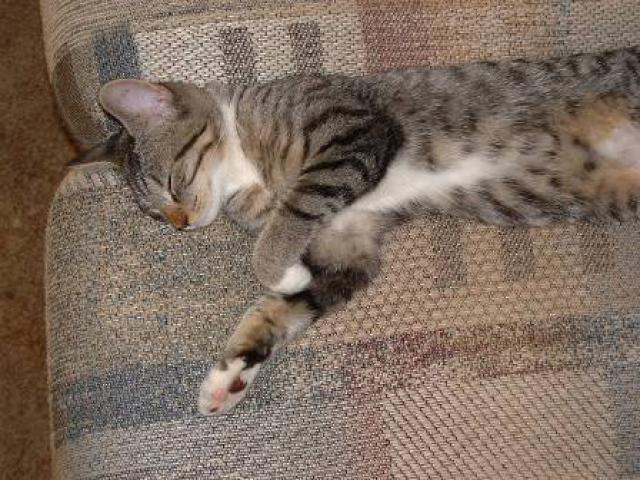cat: (55, 31, 635, 416)
